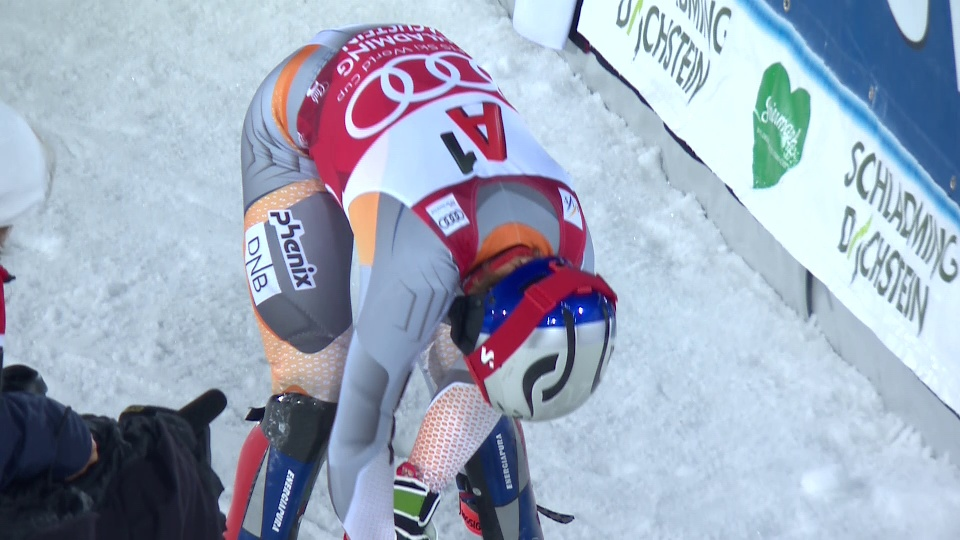a1: (442, 105, 514, 166)
audi: (344, 52, 510, 127), (436, 201, 467, 233)
schladming: (834, 144, 960, 360), (580, 1, 732, 114)
steiermark: (744, 68, 820, 190)
